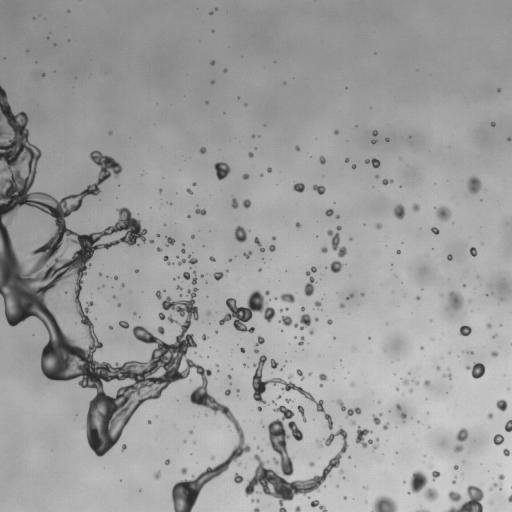droplet: (244, 405, 348, 511), (219, 290, 275, 332), (444, 485, 482, 511), (408, 471, 438, 501), (355, 426, 378, 450), (371, 495, 397, 511), (466, 363, 485, 378), (214, 162, 230, 179), (294, 314, 311, 330), (448, 291, 463, 308), (467, 176, 481, 194), (434, 206, 451, 220), (234, 226, 247, 242), (183, 271, 197, 284), (393, 204, 405, 219), (330, 261, 343, 273), (456, 428, 468, 441), (279, 315, 292, 326), (448, 491, 461, 502), (459, 325, 471, 336), (496, 399, 507, 411), (280, 293, 294, 302), (293, 182, 304, 192), (493, 434, 503, 445), (313, 185, 325, 194), (188, 255, 197, 265), (234, 473, 243, 483), (490, 482, 502, 489), (213, 272, 223, 280), (270, 359, 278, 369), (432, 470, 440, 480), (195, 208, 206, 215), (166, 236, 174, 245), (469, 247, 477, 256), (372, 415, 380, 424), (505, 419, 511, 431), (231, 198, 238, 208), (243, 199, 251, 207), (119, 321, 128, 328), (454, 445, 463, 452), (412, 204, 420, 211), (325, 209, 333, 216), (431, 227, 439, 234), (319, 373, 327, 380), (254, 237, 260, 246), (155, 290, 161, 299), (298, 336, 304, 345), (244, 251, 251, 258), (314, 301, 321, 308), (503, 448, 510, 455), (319, 156, 325, 164), (158, 326, 164, 334), (443, 373, 451, 379), (154, 471, 160, 479), (178, 259, 185, 265), (347, 293, 354, 299), (181, 467, 187, 474), (498, 474, 504, 481), (200, 147, 206, 153), (186, 188, 192, 194), (269, 245, 275, 251), (321, 246, 327, 252), (402, 379, 408, 385), (424, 380, 430, 386), (242, 174, 249, 179), (372, 130, 377, 136), (447, 254, 452, 260), (209, 256, 215, 261), (491, 351, 497, 356), (225, 389, 230, 395), (383, 423, 388, 429), (121, 444, 126, 450), (294, 506, 300, 511), (285, 398, 292, 402), (248, 152, 253, 157), (376, 223, 381, 228), (177, 285, 182, 290), (327, 319, 332, 324), (486, 323, 491, 328), (202, 335, 207, 340), (413, 380, 418, 385), (350, 420, 355, 425), (296, 222, 300, 228), (165, 459, 169, 465), (253, 507, 259, 511), (210, 61, 215, 65), (267, 167, 271, 172), (156, 247, 161, 251), (181, 248, 185, 253), (309, 329, 313, 334), (240, 348, 245, 352), (488, 413, 492, 418), (309, 462, 314, 466), (491, 122, 495, 126), (334, 130, 338, 134), (295, 146, 299, 150), (345, 158, 349, 162), (260, 247, 264, 251), (416, 296, 420, 300), (340, 303, 344, 307), (436, 366, 440, 370), (454, 465, 458, 469), (372, 140, 376, 143), (396, 250, 400, 253), (301, 307, 304, 311), (207, 311, 210, 315), (108, 326, 112, 329), (493, 334, 496, 338), (227, 375, 231, 378), (277, 395, 280, 399), (258, 406, 261, 410), (339, 469, 342, 473), (467, 351, 472, 353), (385, 138, 388, 141), (352, 165, 355, 168), (193, 182, 196, 185), (191, 235, 194, 238), (150, 240, 153, 243), (135, 269, 138, 272), (114, 276, 117, 279), (121, 283, 124, 286), (315, 317, 318, 320), (351, 383, 354, 386), (189, 430, 192, 433), (497, 89, 500, 91), (252, 135, 255, 137), (507, 138, 510, 140), (375, 175, 378, 177), (159, 189, 162, 191), (187, 215, 190, 217), (336, 215, 338, 218), (272, 237, 275, 239), (463, 284, 465, 287), (280, 309, 283, 311), (320, 384, 322, 387), (409, 389, 412, 391), (452, 481, 455, 483), (344, 496, 346, 499), (210, 12, 212, 14), (224, 69, 226, 71), (212, 81, 214, 83), (260, 174, 262, 176), (350, 238, 352, 240), (182, 244, 184, 246), (229, 259, 231, 261), (99, 273, 101, 275), (361, 293, 363, 295), (179, 294, 181, 296), (118, 304, 120, 306), (420, 346, 422, 348), (281, 367, 283, 369), (309, 372, 311, 374), (237, 389, 239, 391), (396, 388, 398, 390), (378, 401, 380, 403), (364, 486, 366, 488)
ligament: (0, 86, 250, 511), (252, 355, 331, 429), (327, 226, 346, 257), (337, 399, 361, 417), (304, 266, 316, 296), (310, 500, 327, 511), (254, 336, 264, 353), (396, 404, 406, 421), (297, 405, 306, 421), (365, 158, 380, 167), (163, 256, 173, 264), (296, 369, 303, 380), (382, 179, 393, 185), (416, 508, 429, 511), (317, 440, 322, 446), (256, 446, 262, 451), (251, 499, 259, 502), (508, 495, 511, 502)
